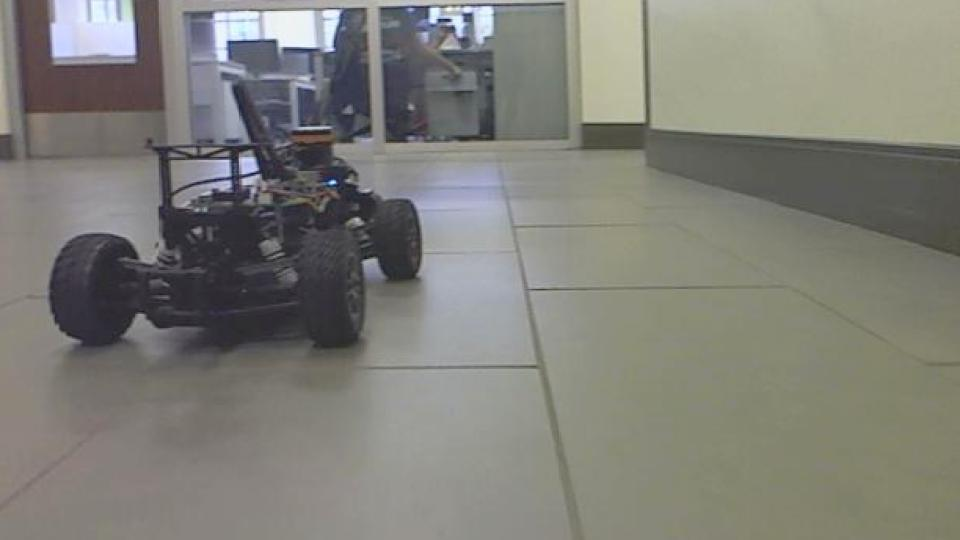car: (46, 77, 426, 353)
